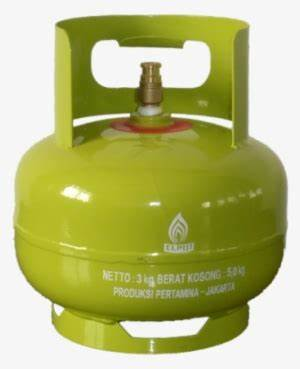gas_ijo: (14, 13, 289, 356)
